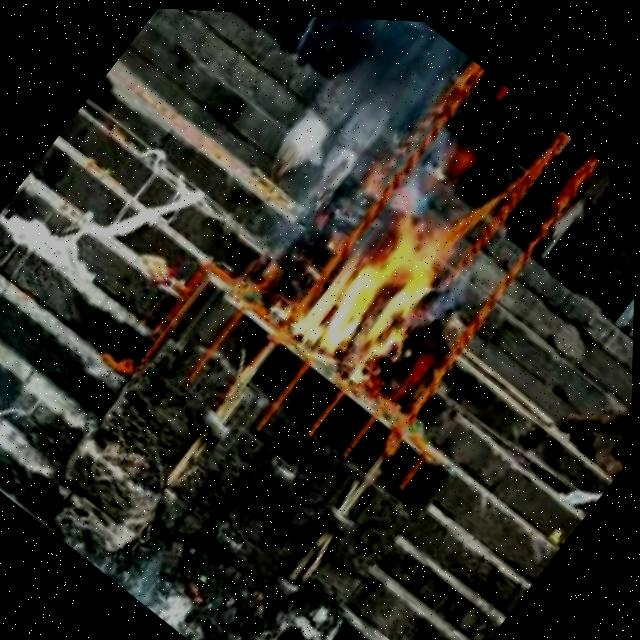Fire: (290, 194, 466, 391)
